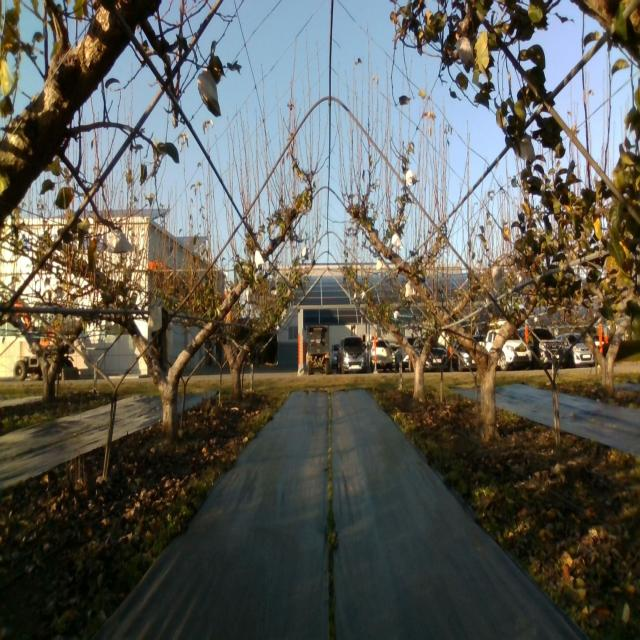pearbags: (197, 66, 221, 120), (106, 228, 132, 256), (519, 130, 536, 164), (456, 37, 473, 65), (492, 265, 503, 292), (406, 168, 419, 188)
